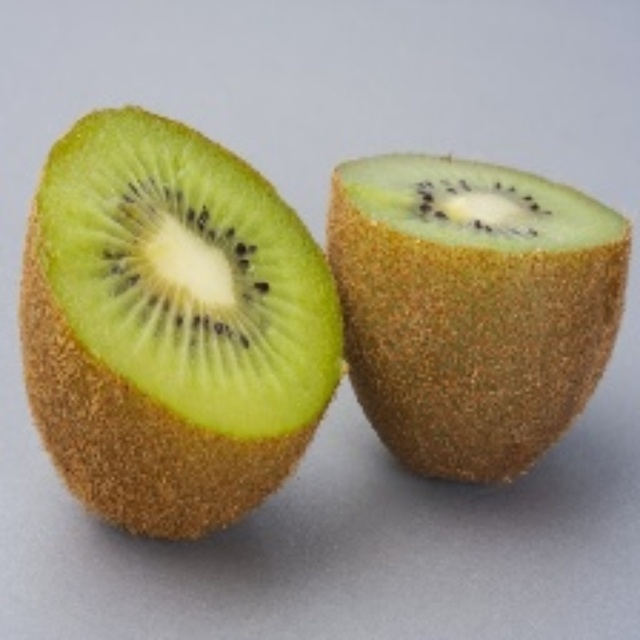kiwi: (19, 104, 347, 556), (324, 154, 635, 500)
